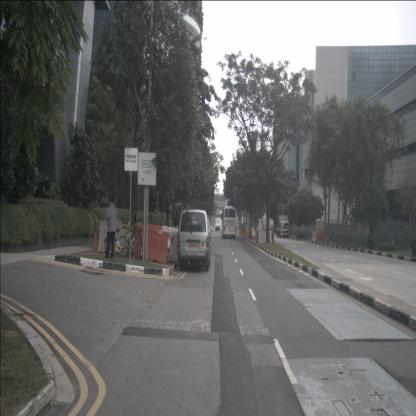human-pedestrian-adult: (104, 198, 118, 259), (132, 210, 138, 241), (148, 210, 153, 238)
movable_object-barrier: (134, 225, 170, 264), (97, 221, 134, 256), (134, 222, 162, 252), (162, 225, 178, 249), (168, 231, 177, 264), (258, 231, 272, 245), (255, 230, 267, 244), (266, 230, 275, 244), (317, 232, 328, 243), (311, 230, 317, 242), (240, 228, 247, 236), (236, 228, 240, 236)
movable_object-trafficcone: (91, 230, 99, 252)
vehicle-bicycle: (104, 221, 135, 261), (117, 228, 144, 260)
vehicle-bus-rigid: (222, 206, 236, 238)
vehicle-car: (177, 209, 211, 271), (216, 224, 221, 231)
vehicle-truck: (277, 215, 290, 238)
